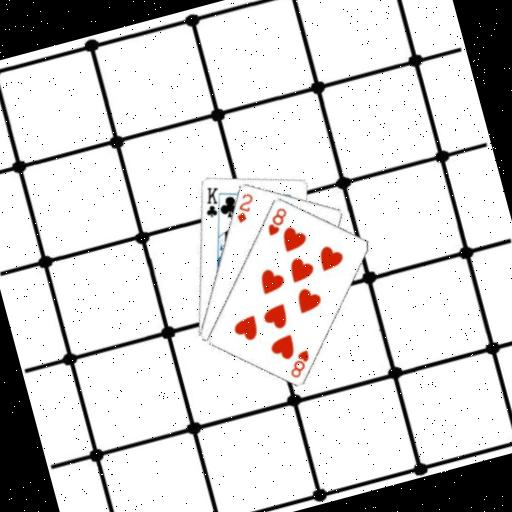2D: (228, 188, 259, 225)
8H: (259, 203, 293, 238), (282, 345, 316, 380)
KC: (195, 181, 228, 225)
